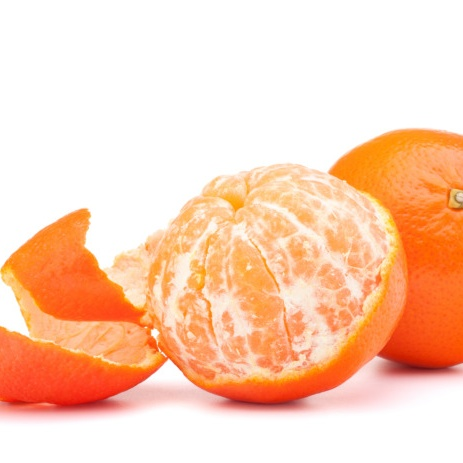mandarin: (143, 166, 409, 407), (329, 129, 463, 368)
